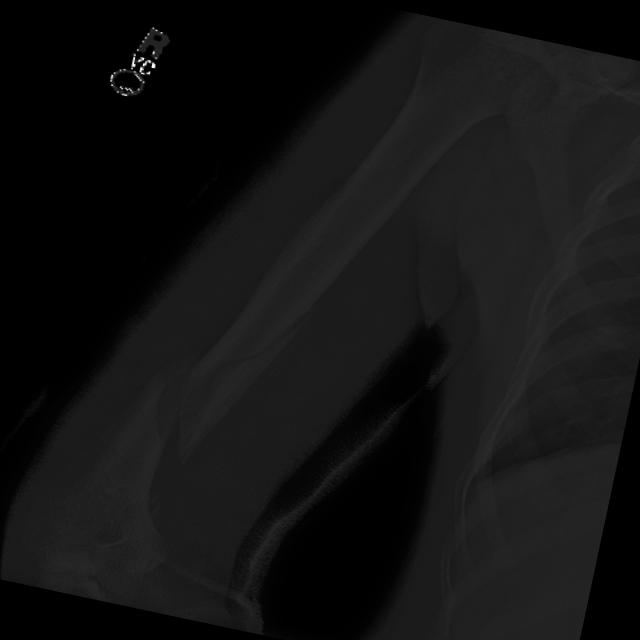humerus fracture: (77, 223, 369, 515)
